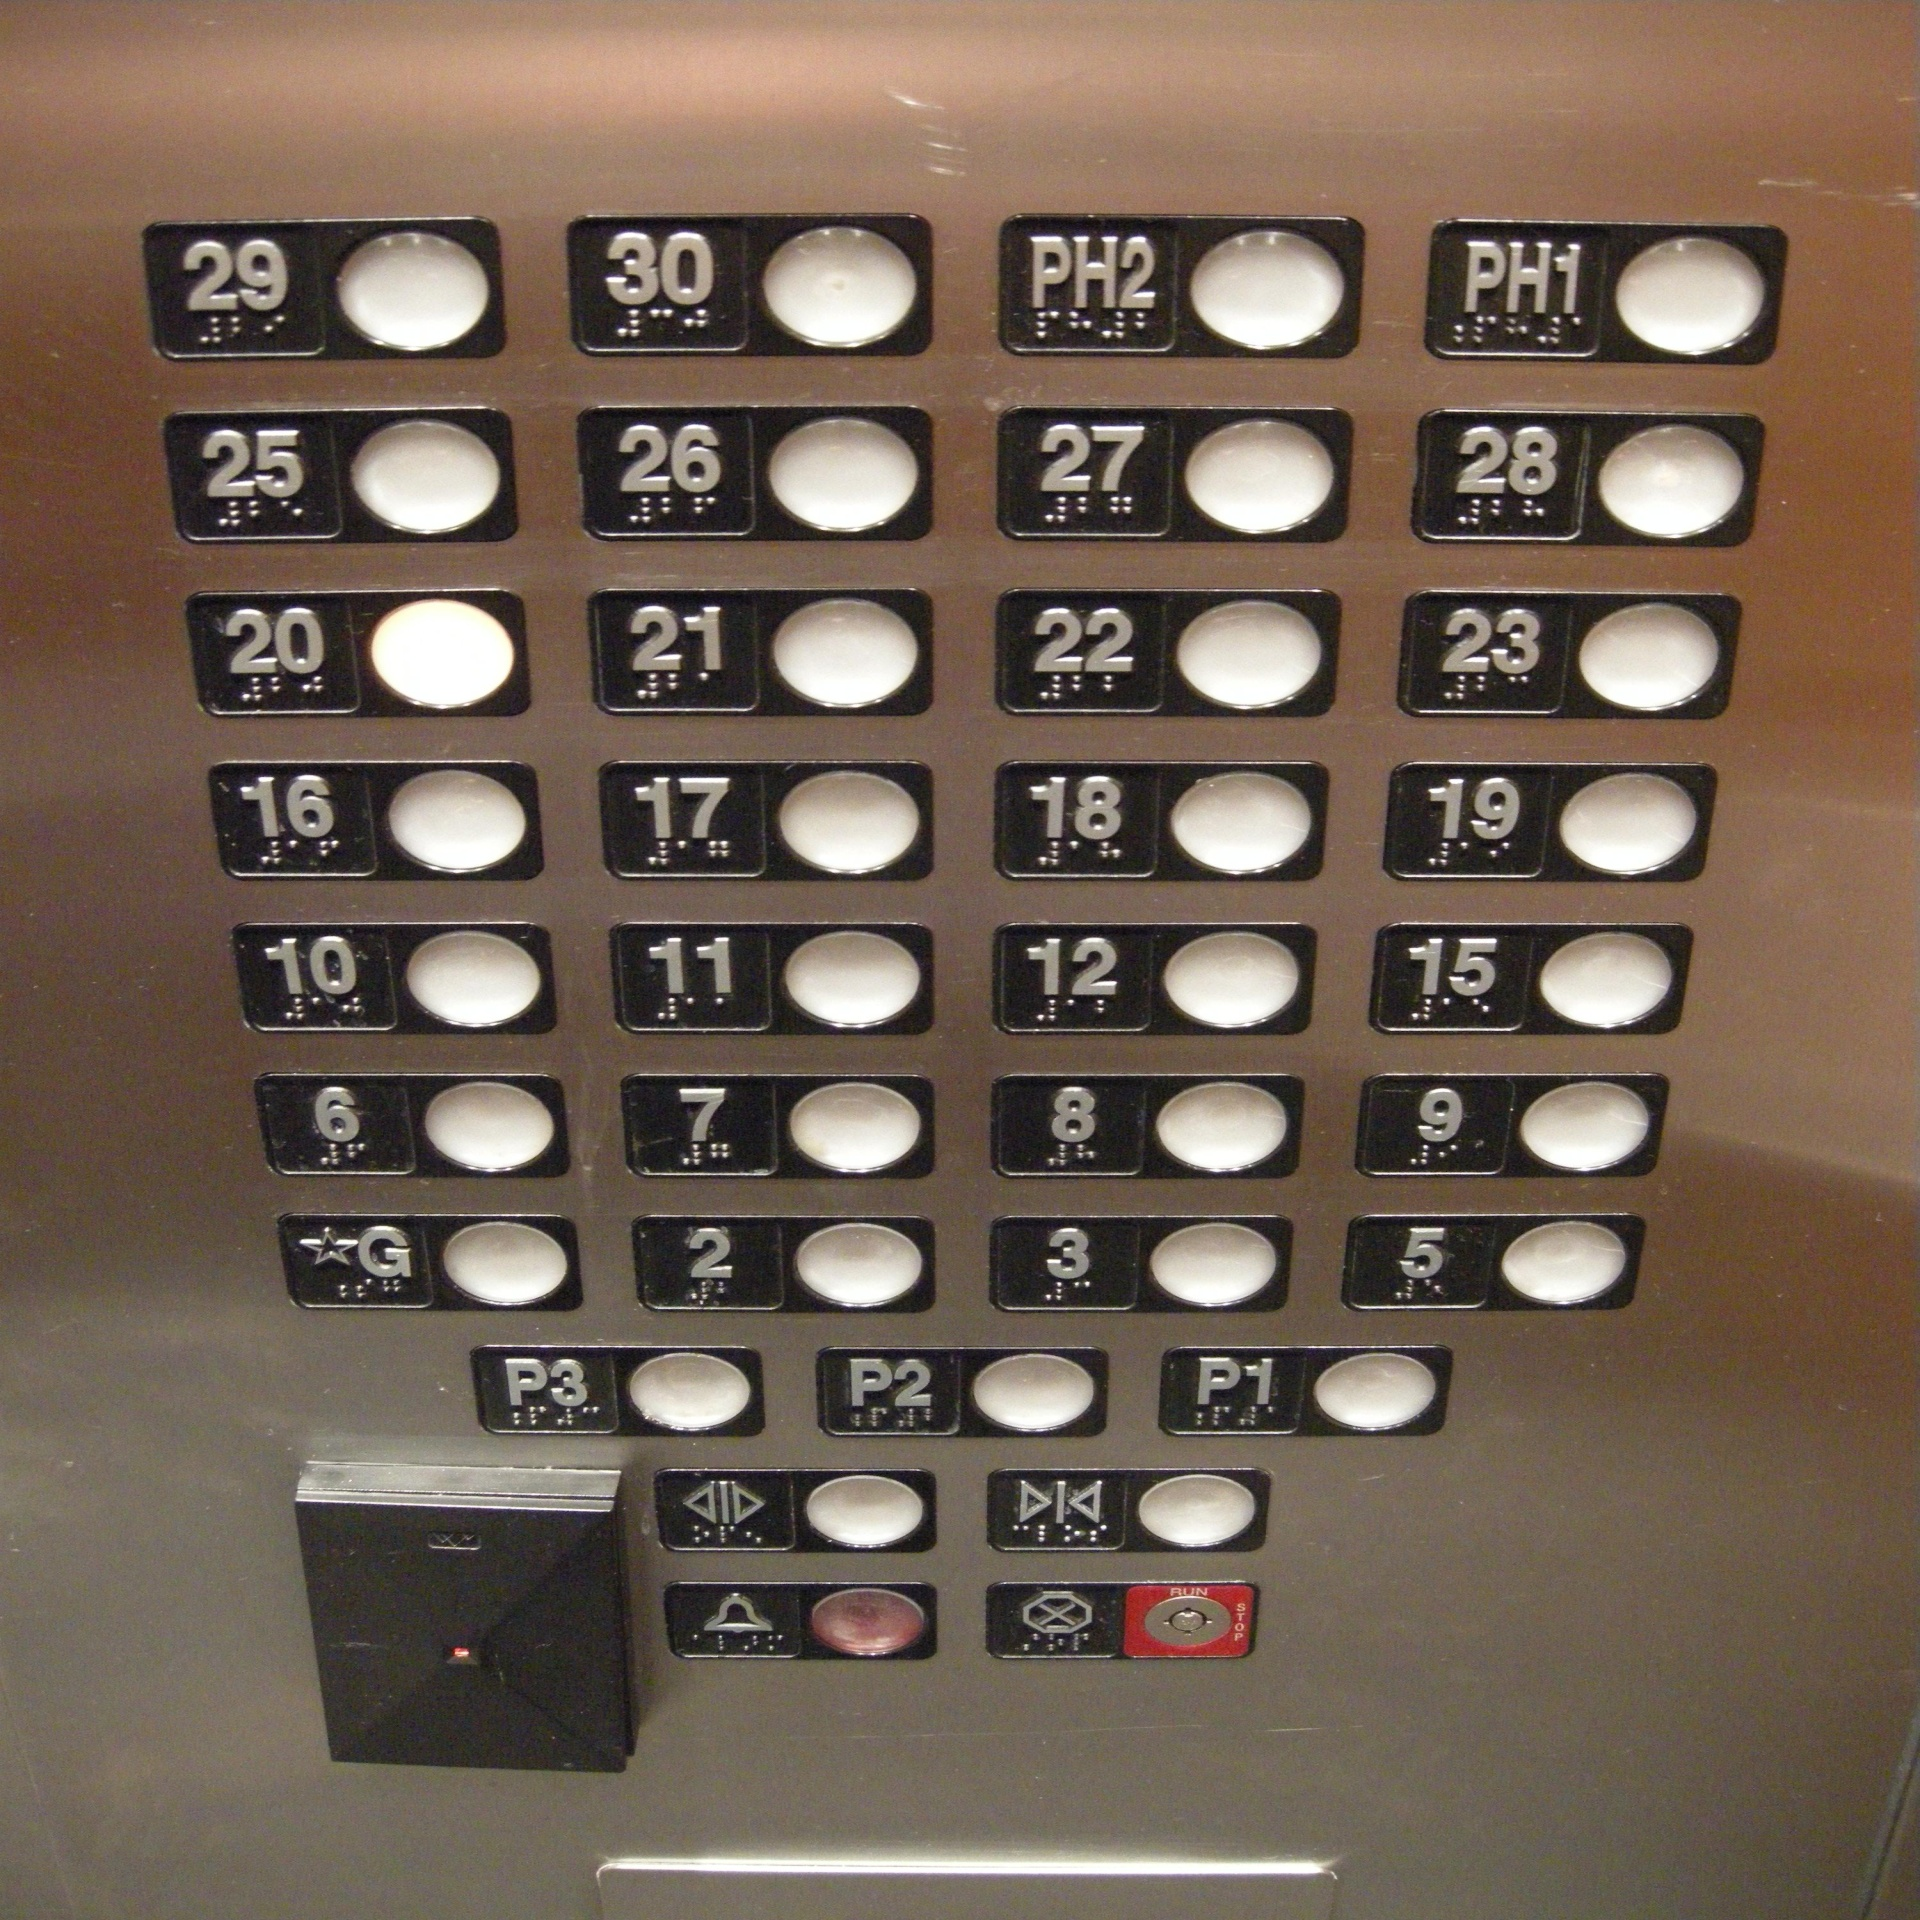10: (223, 905, 570, 1043)
11: (600, 913, 942, 1051)
12: (983, 911, 1333, 1039)
15: (1364, 911, 1700, 1050)
16: (195, 754, 554, 890)
17: (593, 751, 944, 893)
18: (983, 749, 1336, 893)
19: (1377, 747, 1730, 897)
2: (624, 1208, 949, 1324)
20: (174, 578, 540, 726)
21: (580, 571, 949, 726)
22: (986, 577, 1350, 724)
23: (1393, 577, 1742, 737)
25: (155, 392, 533, 556)
26: (571, 392, 948, 549)
27: (979, 397, 1359, 552)
28: (1408, 401, 1772, 552)
29: (137, 206, 508, 369)
3: (983, 1203, 1299, 1324)
30: (561, 204, 944, 362)
5: (1340, 1206, 1663, 1324)
6: (251, 1060, 584, 1183)
7: (617, 1060, 944, 1194)
8: (986, 1060, 1313, 1189)
9: (1357, 1064, 1677, 1194)
P1: (1152, 1335, 1459, 1449)
P2: (811, 1340, 1115, 1438)
P3: (464, 1336, 772, 1444)
PH1: (1417, 213, 1799, 369)
PH2: (990, 200, 1375, 375)
alarm: (661, 1567, 944, 1670)
close: (979, 1459, 1276, 1565)
open: (645, 1456, 951, 1565)
sG: (271, 1210, 594, 1324)
stop: (978, 1574, 1273, 1669)
